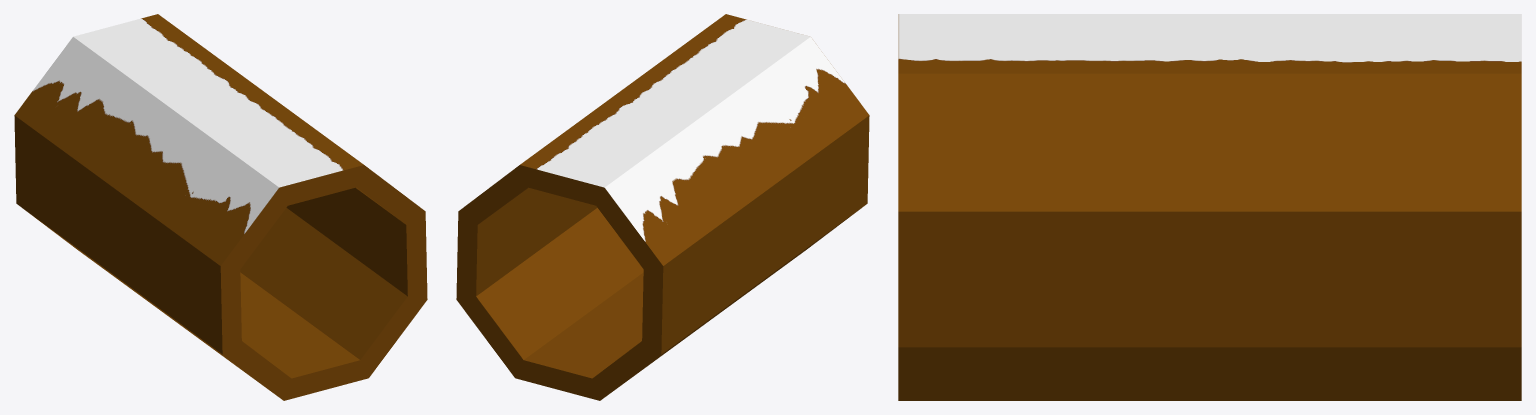
The model's file is toiletPaperRoll.fbx.
3 renders of one model, left to right at view 1: azimuth 30°, elevation 25°; view 2: azimuth 150°, elevation 25°; view 3: azimuth 270°, elevation 25°, orthographic. The views are drawn at different scales.
Visible parts, largest first — view 1: toiletPaperRoll:pCylinder3; view 2: toiletPaperRoll:pCylinder3; view 3: toiletPaperRoll:pCylinder3.
Boxes of the visible parts, left/top/right/bottom form: toiletPaperRoll:pCylinder3: left=14, top=14, right=427, bottom=400; toiletPaperRoll:pCylinder3: left=456, top=14, right=869, bottom=400; toiletPaperRoll:pCylinder3: left=898, top=14, right=1521, bottom=400.
Bounding box in the file's own units: 18.14 × 18.14 × 31.33.
Materials: 1 (1 with a texture image).
